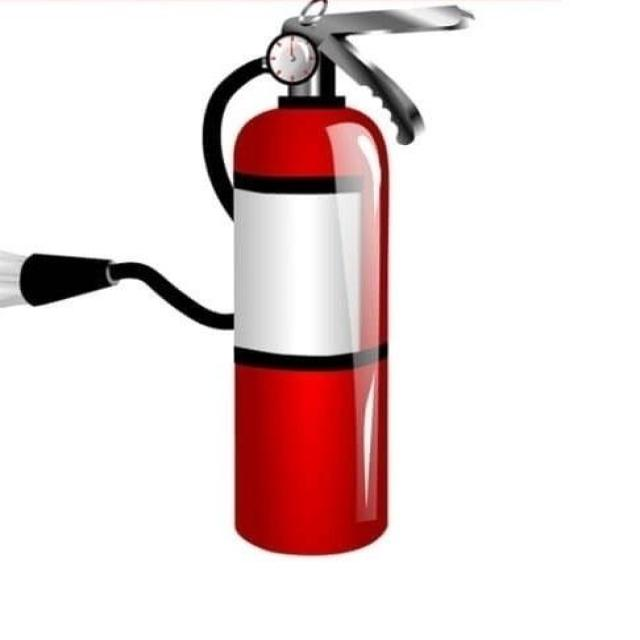fire_extinguisher: (12, 0, 484, 560)
